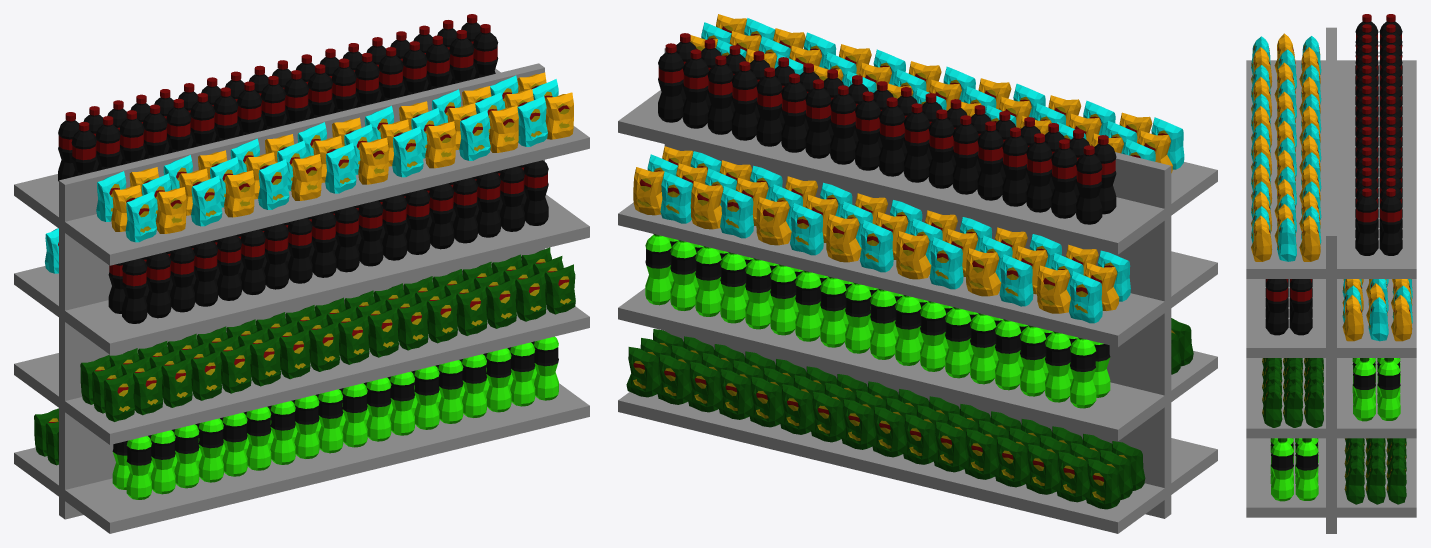
The picture shows the model from 3 angles, left to right: view 1: azimuth 30°, elevation 25°; view 2: azimuth 150°, elevation 25°; view 3: azimuth 270°, elevation 25°; orthographic projection. The views are drawn at different scales.
Parts seen in each view (by area): view 1: Box452, Box453, Office_Desk_030, Office_Desk_028, Coke014, Cylinder091, Coke015, Office_Desk_029, Box454; view 2: Coke015, Box454, Box328, Cylinder092, Office_Desk_030, Office_Desk_028, Box453, Office_Desk_029, Box452; view 3: Office_Desk_028, Box453, Office_Desk_030, Coke015, Office_Desk_029, Box452, Box454, Box328, Cylinder091, Cylinder092, Coke014.
Part boxes in pixels (x1,y1,x2,y2): Box452: (80, 247, 575, 421); Box453: (96, 72, 573, 242); Office_Desk_030: (14, 305, 589, 533); Office_Desk_028: (14, 68, 589, 354); Coke014: (108, 160, 548, 323); Cylinder091: (112, 336, 558, 499); Coke015: (58, 14, 498, 181); Office_Desk_029: (59, 63, 544, 519); Box454: (34, 408, 58, 465); Coke015: (658, 33, 1116, 224); Box454: (626, 329, 1145, 509); Box328: (633, 146, 1130, 323); Cylinder092: (645, 234, 1110, 408); Office_Desk_030: (618, 288, 1217, 533); Office_Desk_028: (618, 90, 1217, 346); Box453: (690, 14, 1184, 173); Office_Desk_029: (664, 48, 1171, 518); Box452: (1171, 318, 1193, 374); Office_Desk_028: (1246, 60, 1416, 357); Box453: (1251, 33, 1321, 261); Office_Desk_030: (1246, 358, 1416, 517); Coke015: (1355, 14, 1402, 255); Office_Desk_029: (1326, 27, 1336, 533); Box452: (1262, 358, 1323, 427); Box454: (1344, 438, 1406, 504); Box328: (1342, 279, 1412, 341); Cylinder091: (1270, 438, 1318, 501); Cylinder092: (1352, 358, 1400, 421); Coke014: (1265, 279, 1312, 335).
Bounding box in the file's own units: 2.63 × 0.9085 × 1.93.
